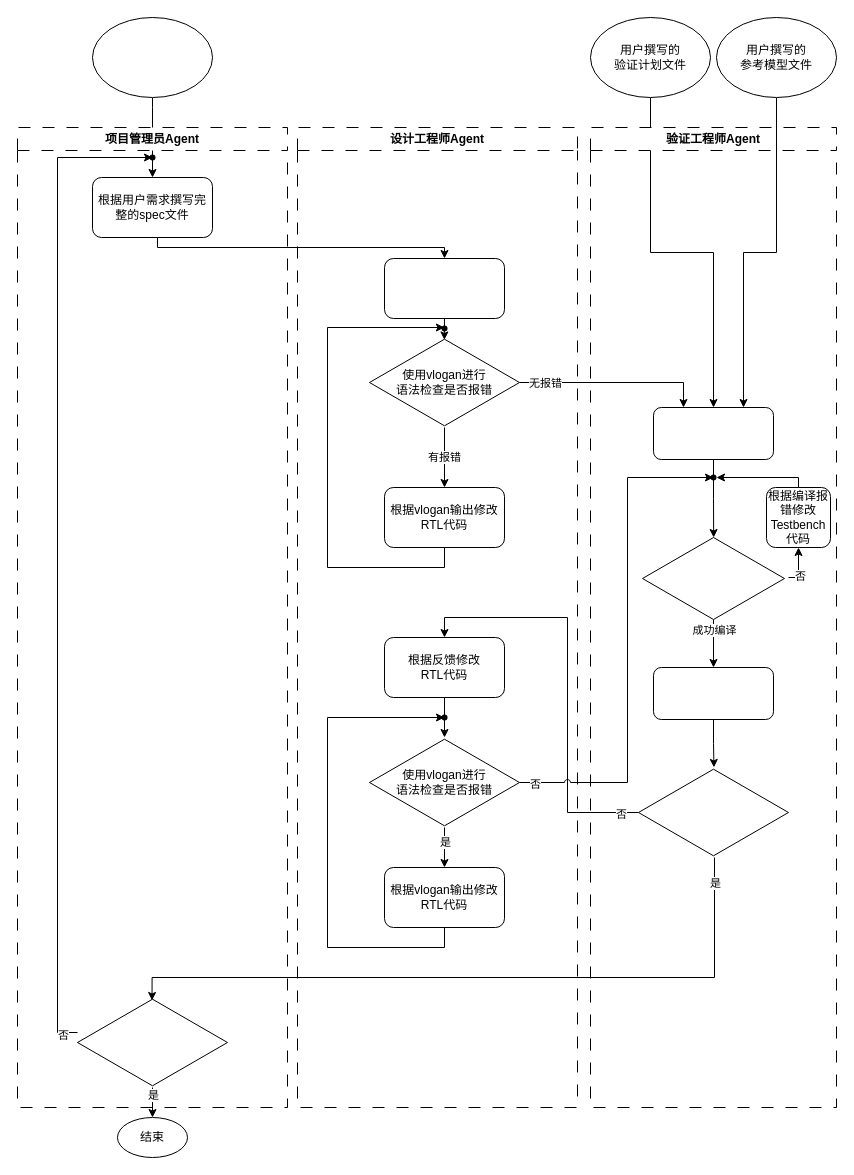
Image size: 854x1175. Some labels were removed from this diagram. The box of each missing label's shape, as (x1, y1, x2, y2) in pixels:
仿真结果 是否符合预期？: (638, 766, 788, 858)
根据spec与验证计划撰写 Testbench: (652, 406, 774, 460)
根据spec撰写 RTL代码: (384, 258, 504, 318)
用户撰写的需求markdown文件: (92, 16, 212, 98)
编译是否成功: (638, 536, 788, 620)
运行仿真: (652, 666, 774, 720)
项目产出 是否符合用户需求？: (76, 996, 228, 1088)
